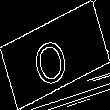O_N: (33, 24, 77, 86)
